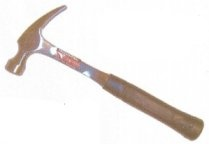hammer: (5, 4, 204, 143)
